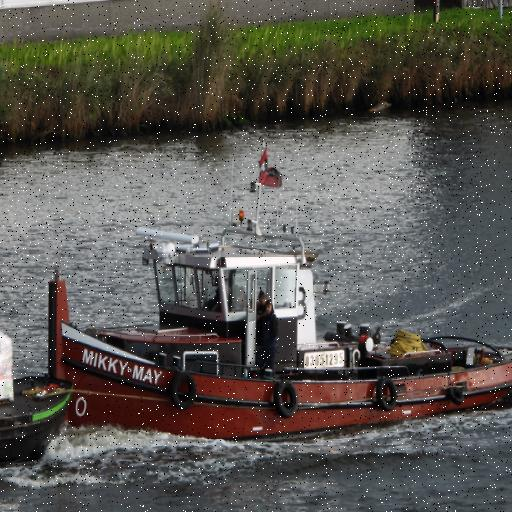tugboat: (39, 214, 512, 449)
